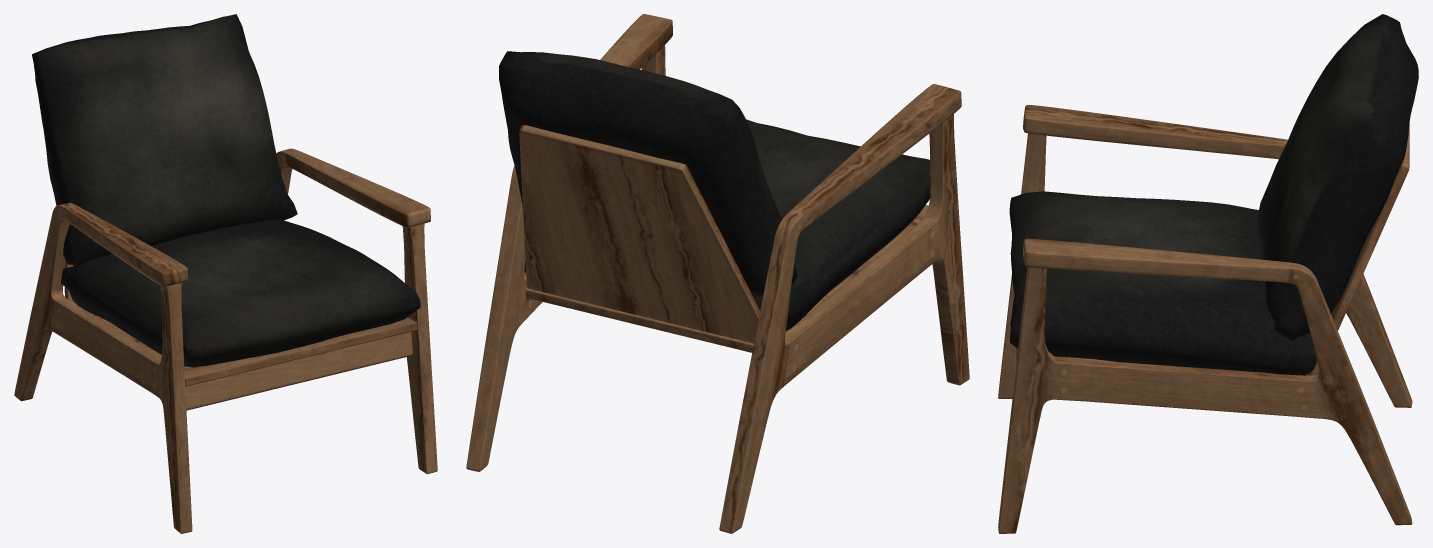
File: modern_arm_chair_01_1k.gltf
3 renders of one model, left to right at view 1: azimuth 30°, elevation 25°; view 2: azimuth 150°, elevation 25°; view 3: azimuth 270°, elevation 25°, orthographic. The views are drawn at different scales.
Parts seen in each view (by area): view 1: modern_arm_chair_01; view 2: modern_arm_chair_01; view 3: modern_arm_chair_01.
Boxes of the visible parts, <box> form: modern_arm_chair_01: <box>14,14,437,533</box>; modern_arm_chair_01: <box>466,14,969,533</box>; modern_arm_chair_01: <box>998,14,1418,533</box>.
Bounding box in the file's own units: 0.8203 × 1.02 × 0.9865.
Materials: 2 (2 with a texture image).
